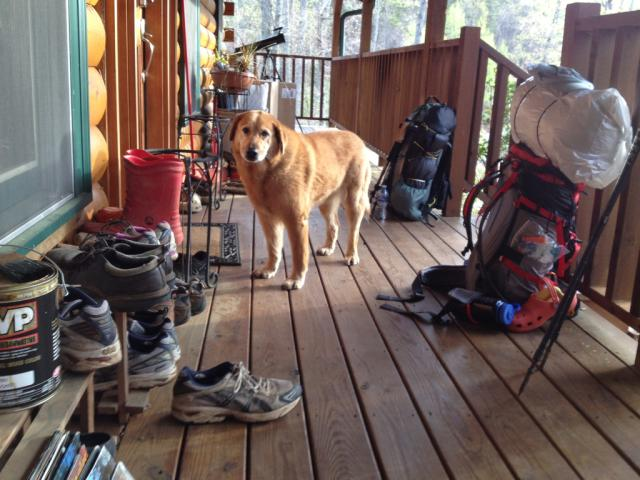Dog: (226, 110, 374, 290)
